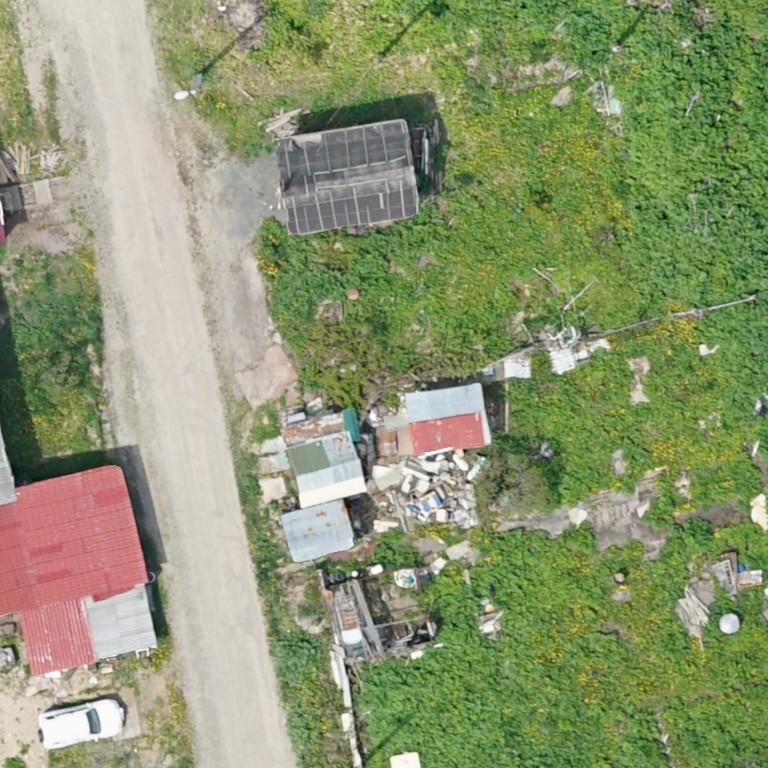hogweed: (358, 528, 767, 767), (618, 21, 767, 447), (273, 204, 448, 318), (509, 380, 612, 502), (274, 632, 317, 744), (564, 10, 612, 69), (644, 497, 673, 527)
